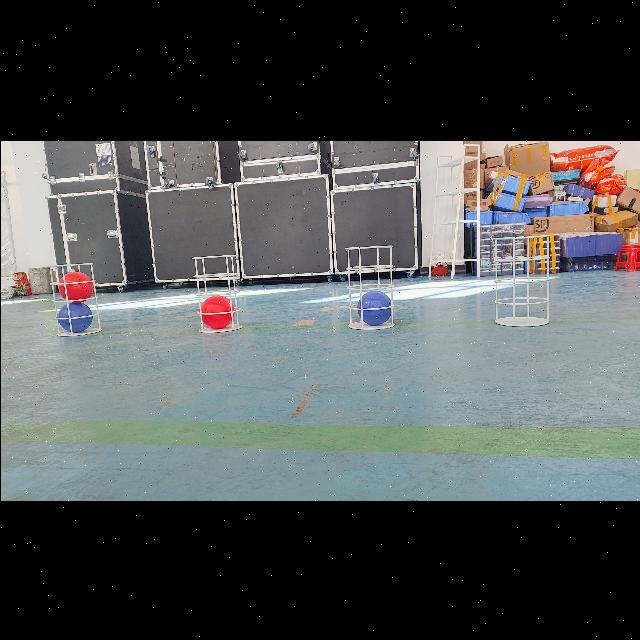B: (356, 290, 394, 324), (56, 300, 94, 330)
R: (200, 295, 237, 327), (57, 271, 93, 301)
S: (488, 229, 554, 329), (341, 241, 399, 329), (187, 250, 245, 330), (47, 262, 103, 338)
